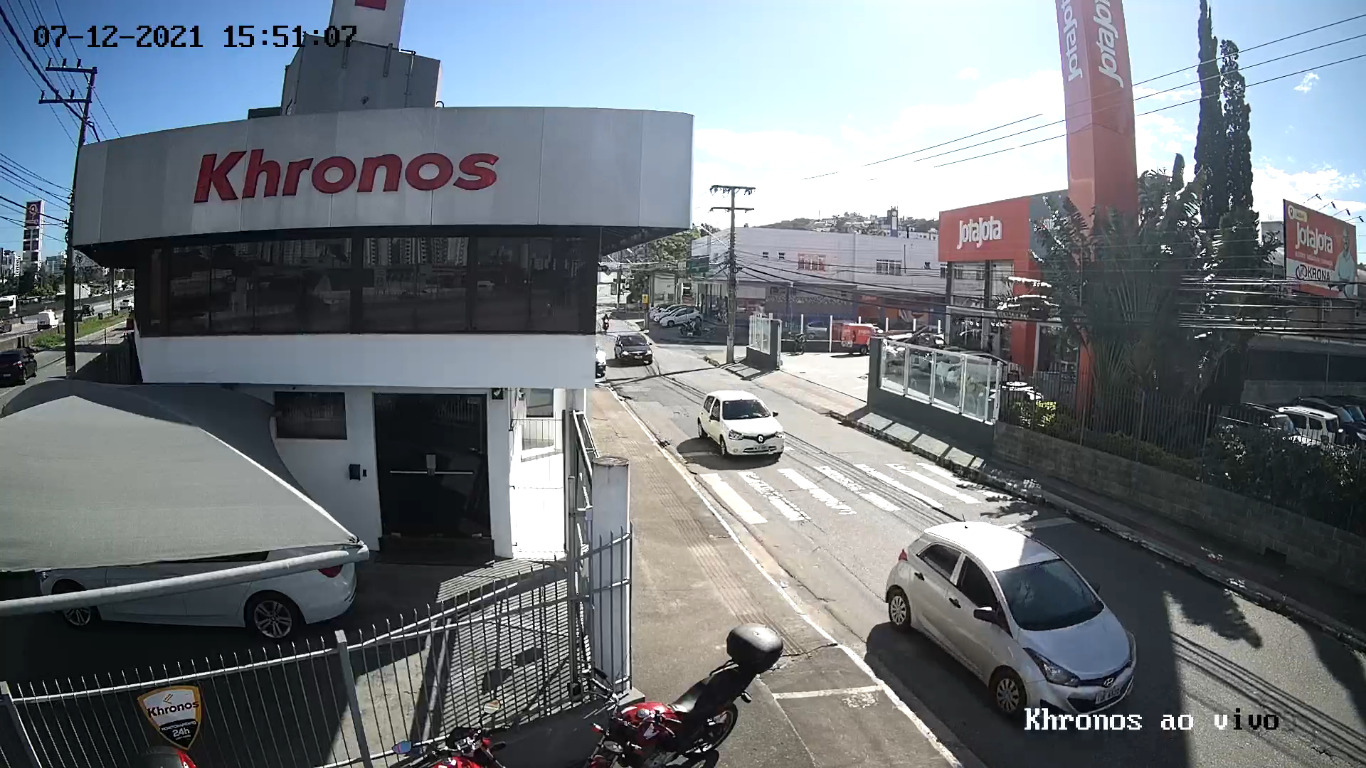car: (884, 521, 1138, 711), (697, 390, 785, 462)
